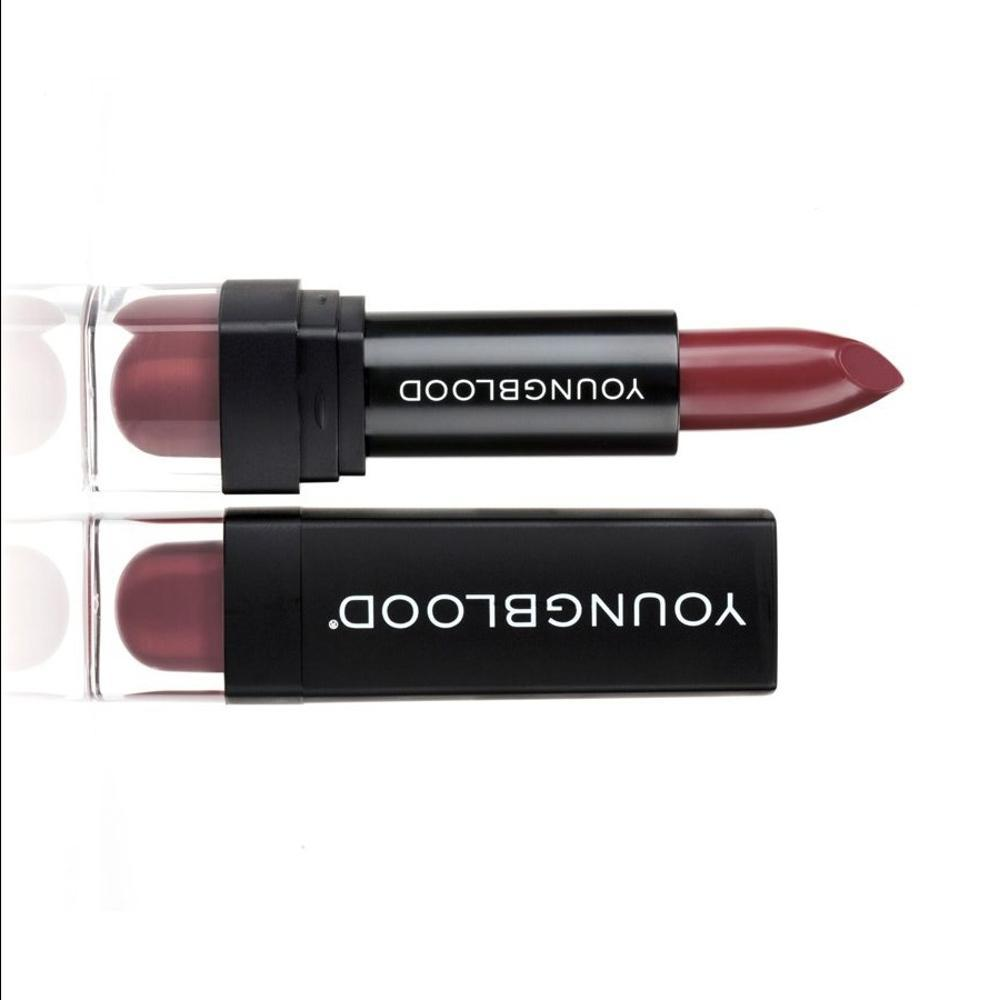lipstick: (54, 241, 947, 511)
